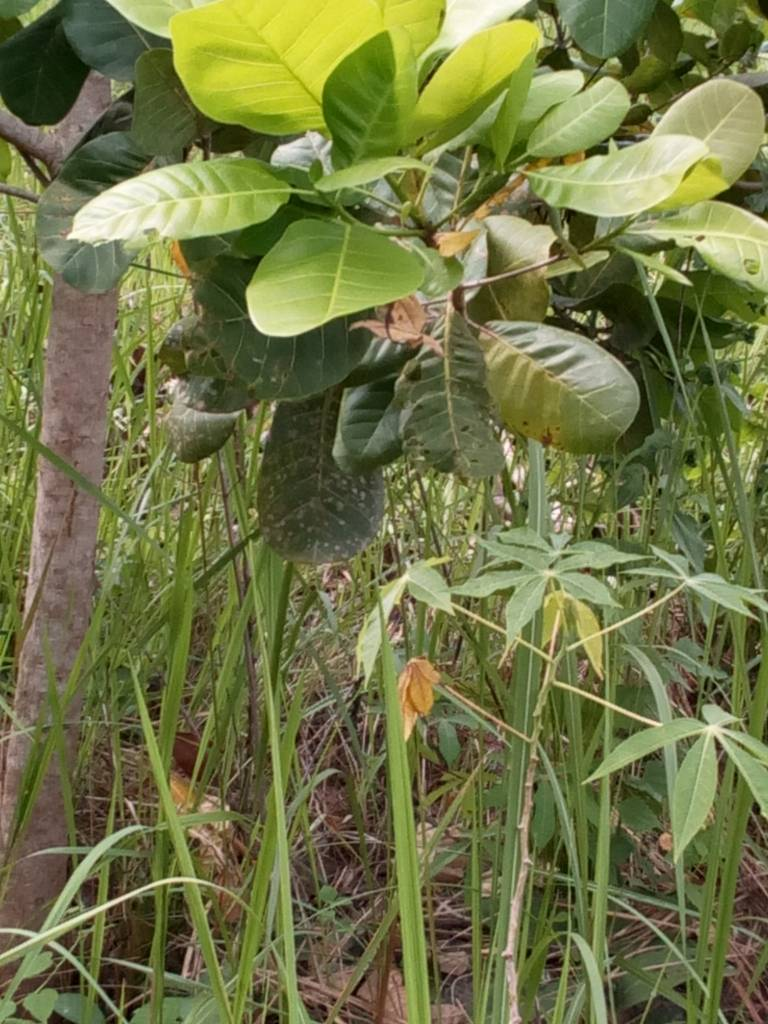Anoplonemis curvipes: (400, 303, 530, 493)
